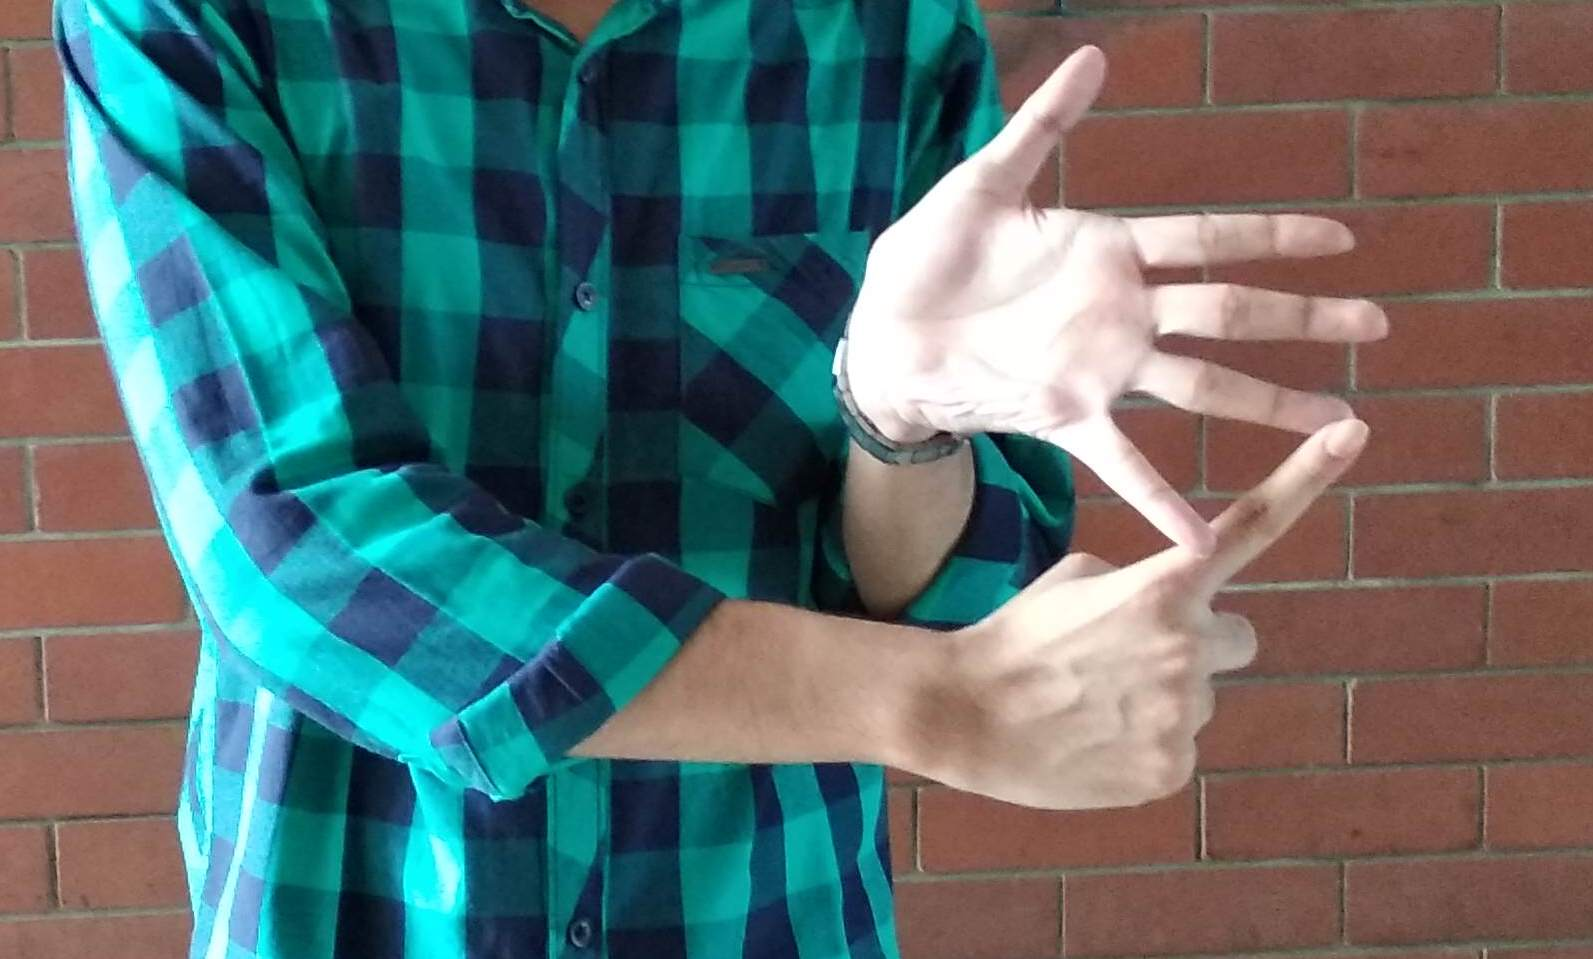e: (880, 97, 1372, 778)
